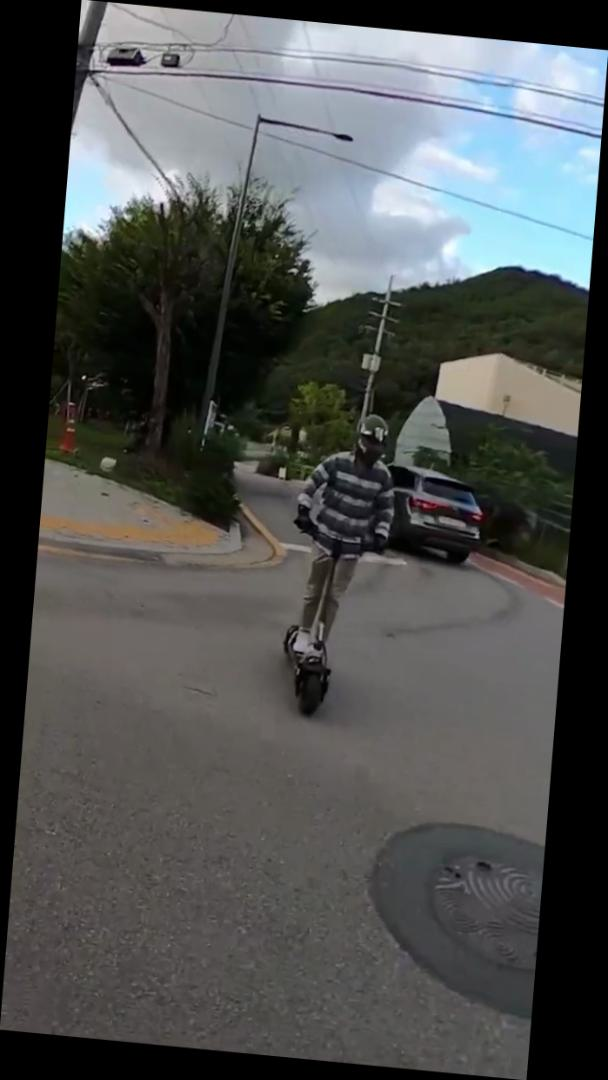helmet: (273, 403, 406, 724)
